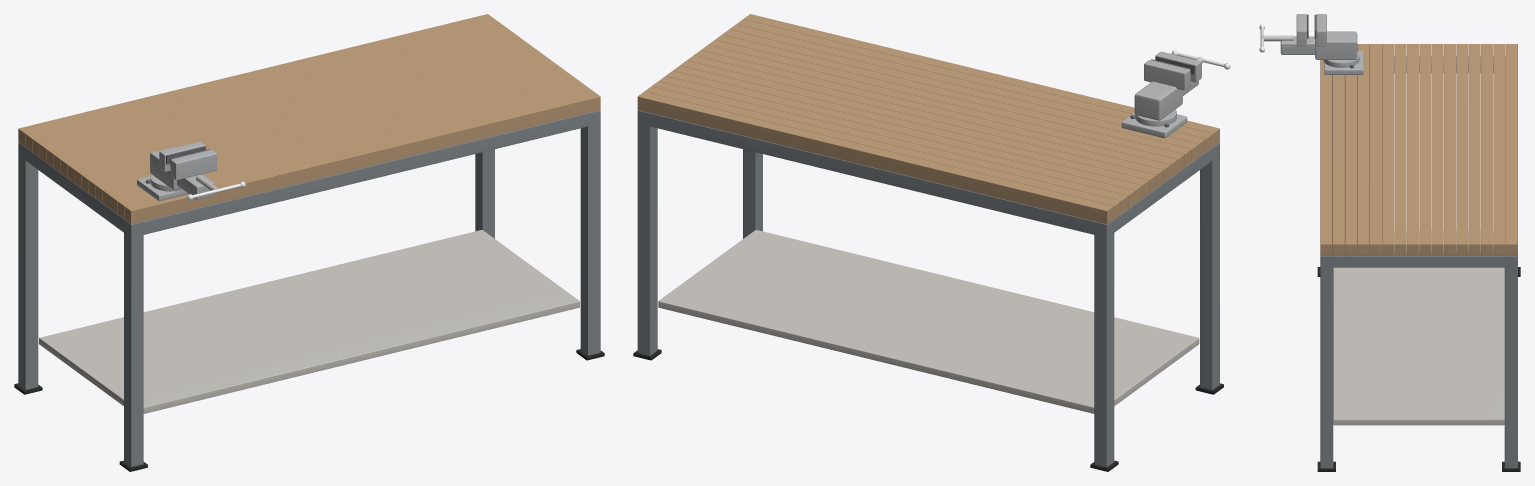
The model's file is bench_standard.glb.
3 views of the same model, side by side, from view 1: azimuth 30°, elevation 25°; view 2: azimuth 150°, elevation 25°; view 3: azimuth 270°, elevation 25° (orthographic). The views are drawn at different scales.
Visible parts, largest first — view 1: SM_bench_standard; view 2: SM_bench_standard; view 3: SM_bench_standard.
Part boxes in pixels (x1,y1,x2,y2): SM_bench_standard: (14, 14, 604, 471); SM_bench_standard: (633, 14, 1230, 471); SM_bench_standard: (1259, 14, 1520, 471).
Size of the model in its own units: 1.82 by 1.13 by 0.991.
